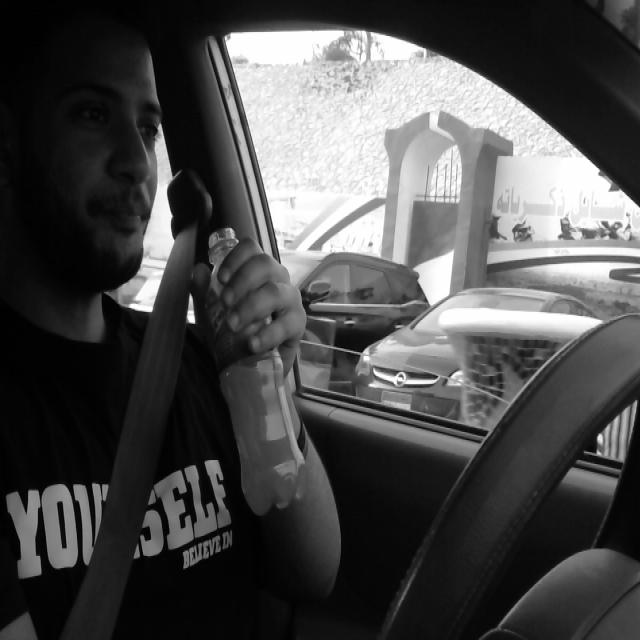drinking: (201, 224, 313, 514)
